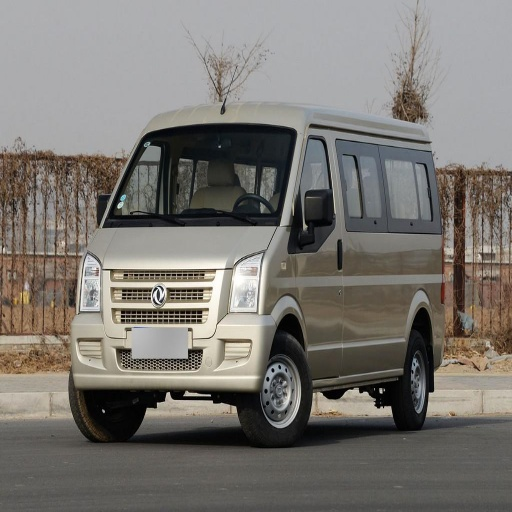front_bumper: (72, 268, 276, 390)
front_glass: (106, 126, 296, 225)
front_left_door: (295, 135, 385, 376)
front_right_light: (80, 253, 102, 310)
trunk: (390, 240, 450, 334)
